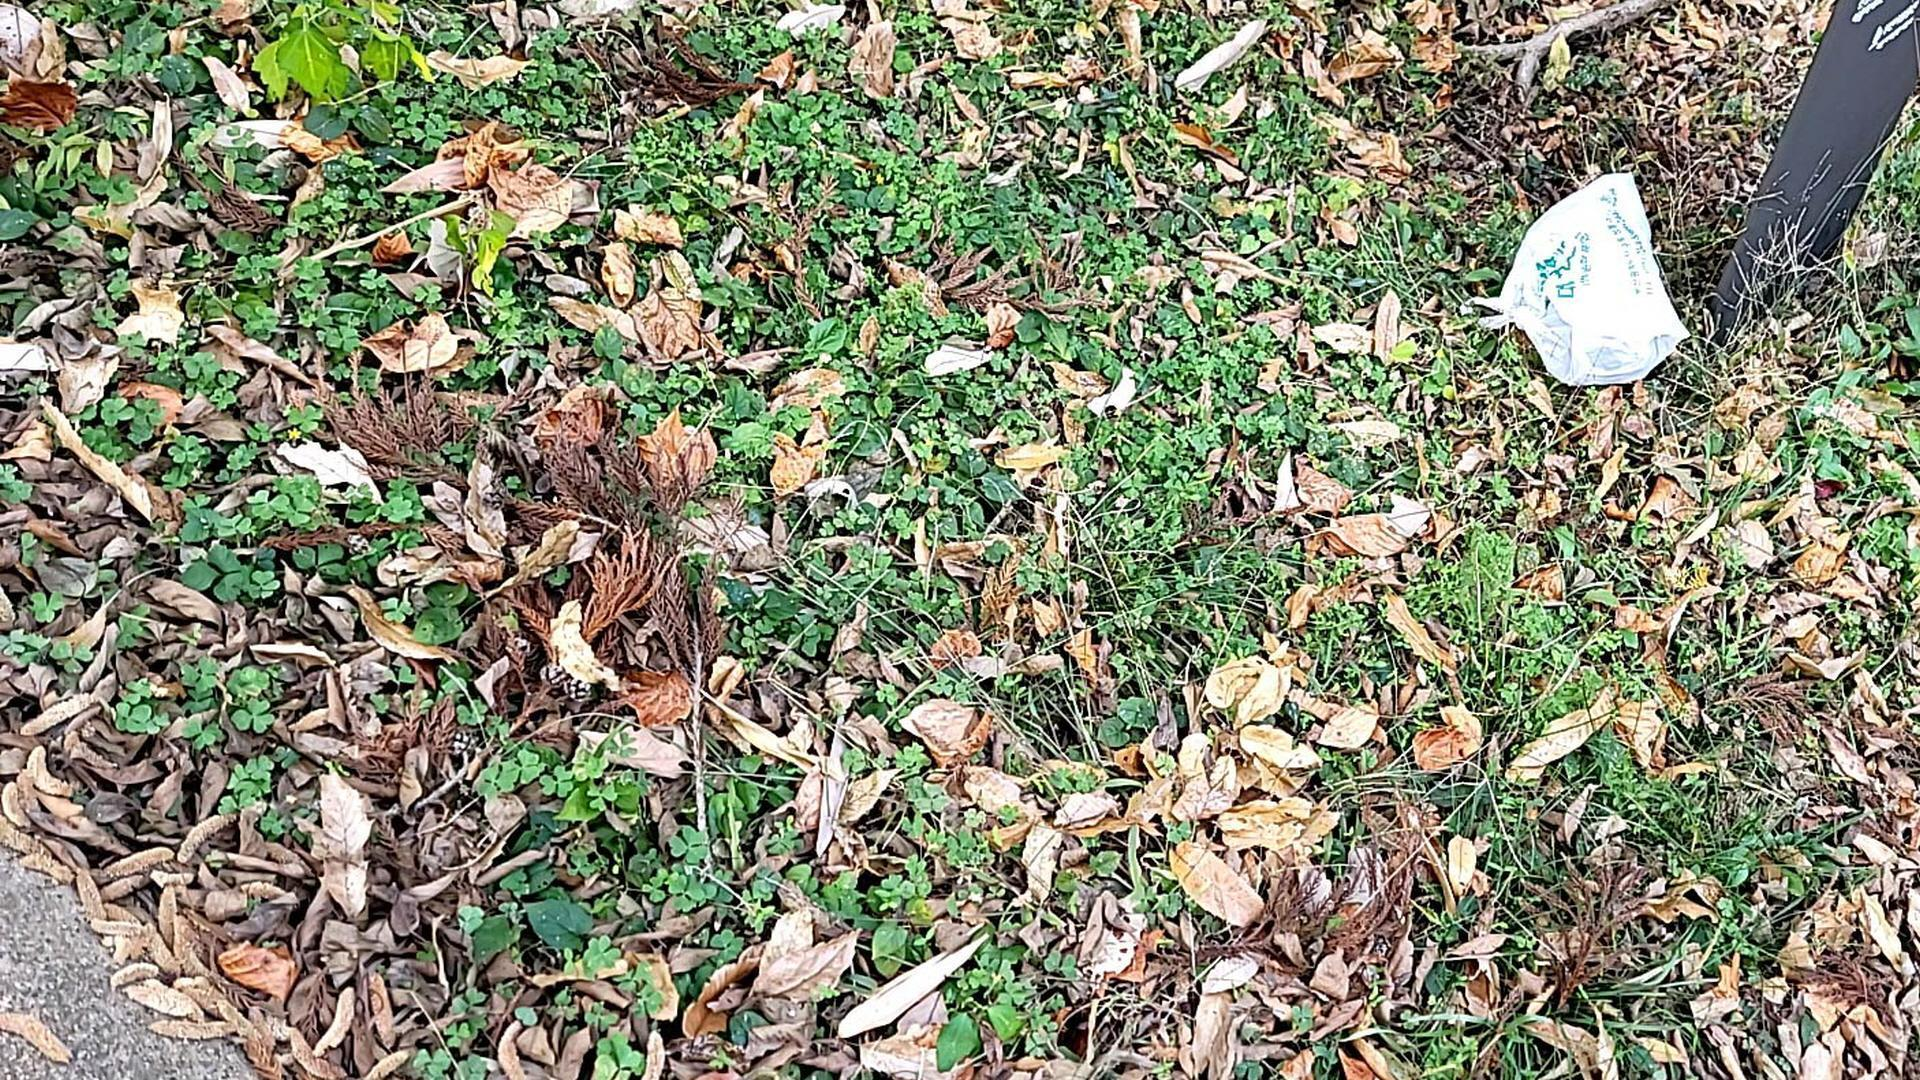white_bag: (1454, 151, 1696, 391)
